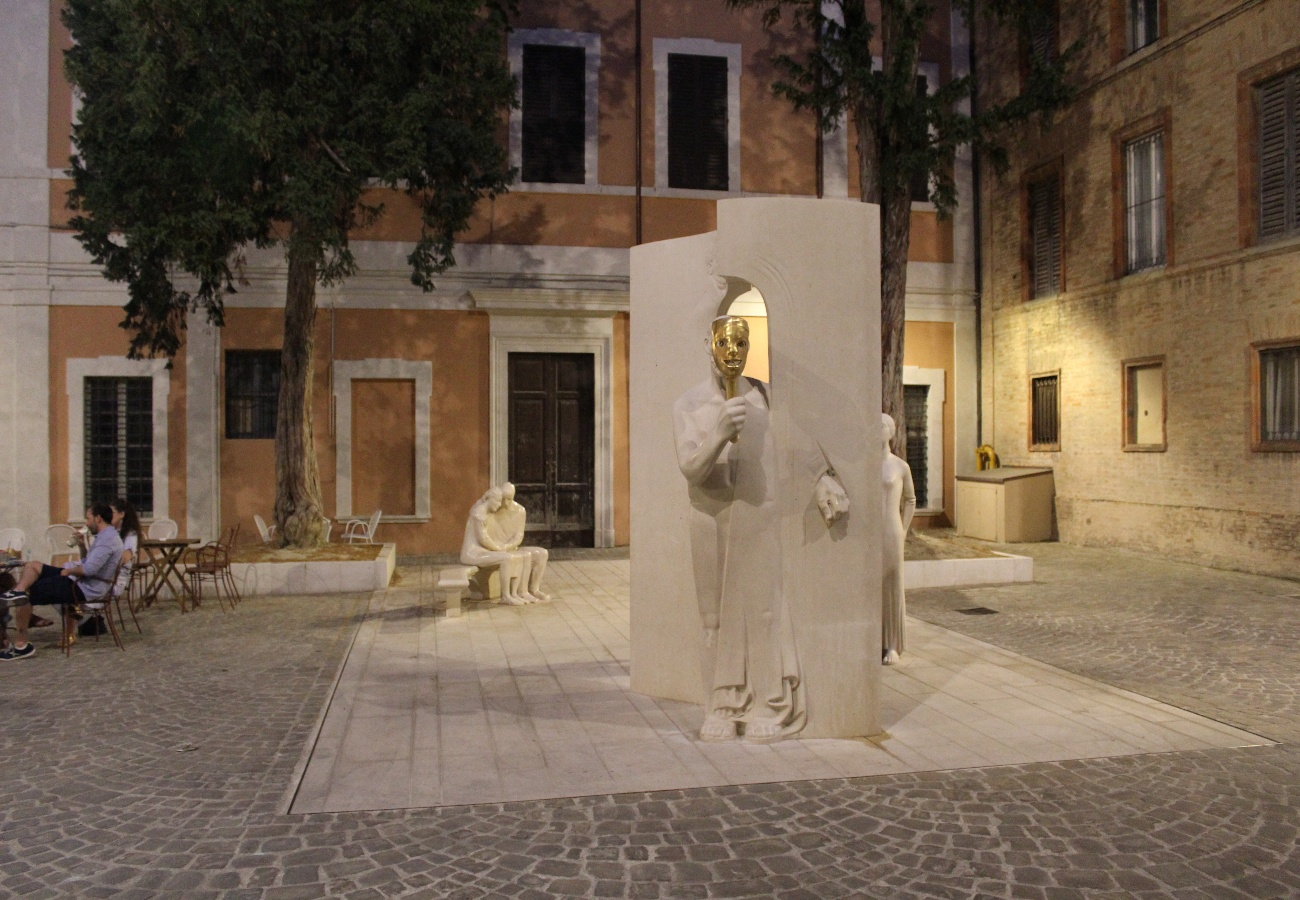Scultura della Memoria: (668, 317, 851, 741)
